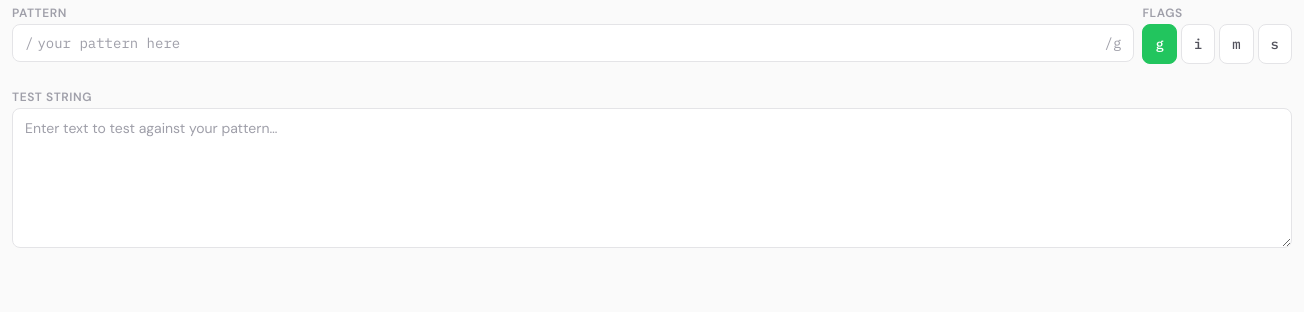
Test: RegexTesterTool › shows timeout error message when worker results in timeout error
Step 1. Type "RE-DOS" into the field with placeholder "your pattern here" → x=569, y=43, box [37, 25, 1101, 61]
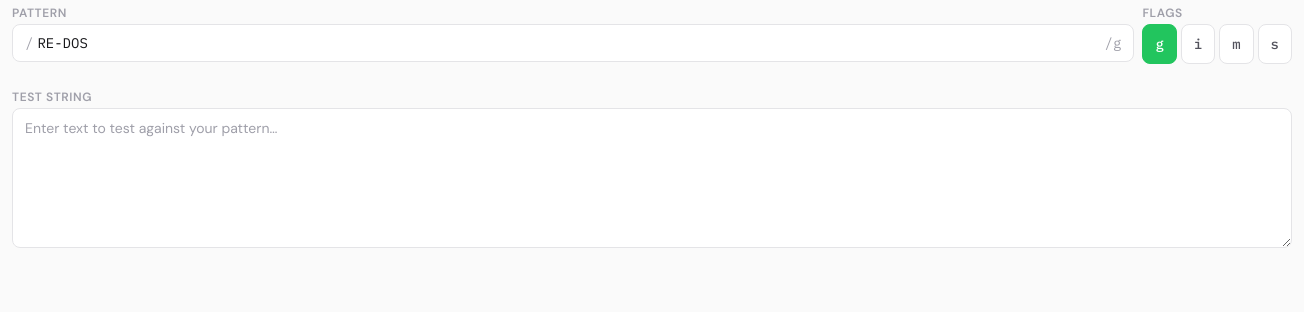
Step 2. Type "aaa!" into the text box with placeholder "Enter text to test against your pattern…" → x=652, y=178, box [12, 108, 1292, 248]
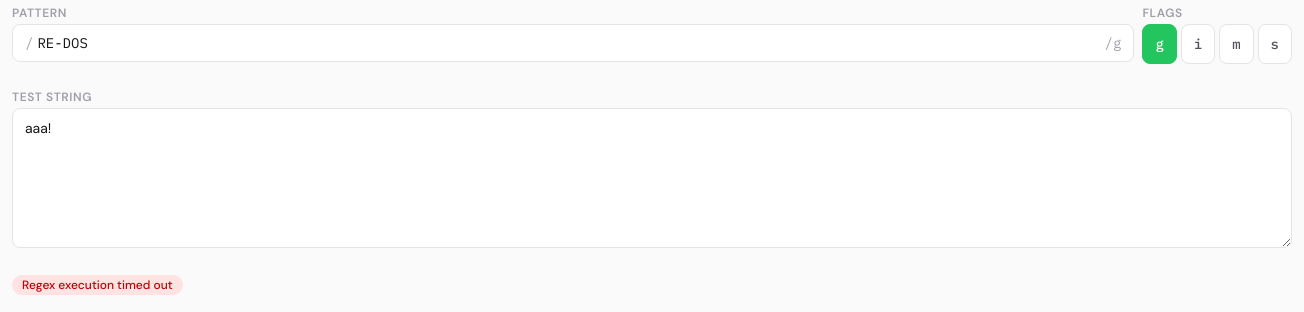
Check: the text "Regex execution timed out" is shown, box [12, 275, 183, 295]
